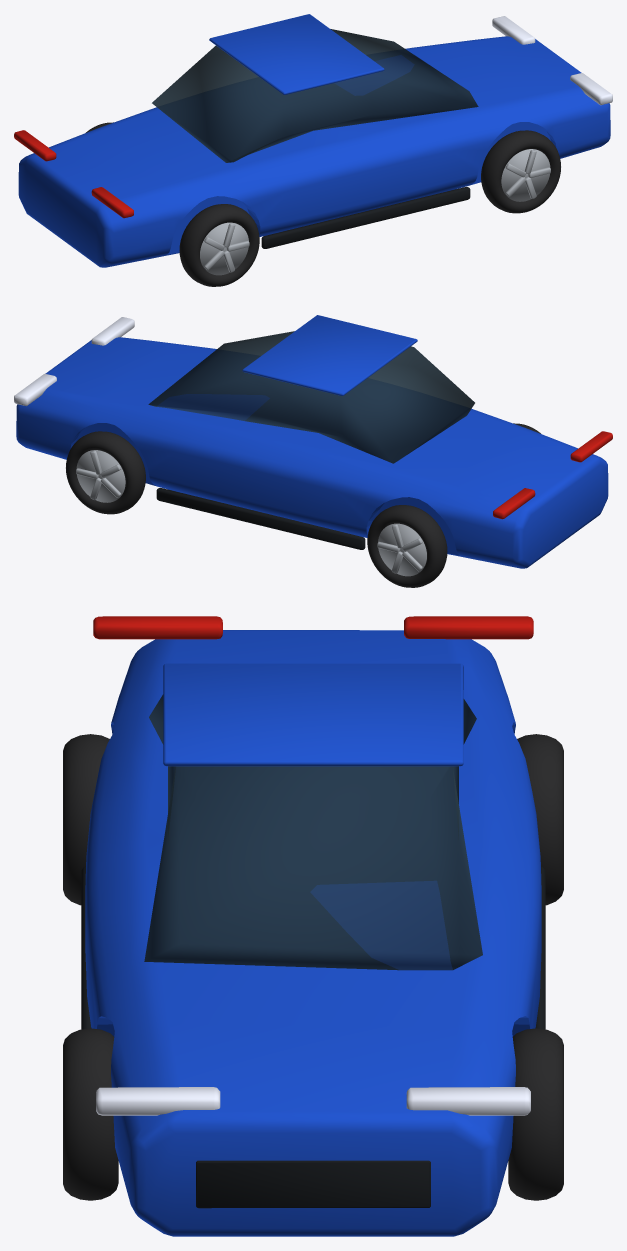
Rendered from vehicle-lod1.glb.
The picture shows the model from 3 angles, top to bottom: view 1: azimuth 30°, elevation 25°; view 2: azimuth 150°, elevation 25°; view 3: azimuth 270°, elevation 25°; orthographic projection. The views are drawn at different scales.
Visible parts, largest first — view 1: chassis_LOD1, cabin_glass_LOD1, roof_LOD1, wheel_front_left_LOD1, wheel_rear_left_LOD1, side_sill_-1_LOD1, wheel_front_left_rim_LOD1, wheel_rear_left_rim_LOD1, front_lamp_-1_LOD1, front_lamp_1_LOD1, rear_lamp_-1_LOD1, rear_lamp_1_LOD1; view 2: chassis_LOD1, cabin_glass_LOD1, roof_LOD1, wheel_front_right_LOD1, wheel_rear_right_LOD1, side_sill_1_LOD1, wheel_rear_right_rim_LOD1, wheel_front_right_rim_LOD1, front_lamp_1_LOD1, front_lamp_-1_LOD1, rear_lamp_-1_LOD1, rear_lamp_1_LOD1; view 3: chassis_LOD1, cabin_glass_LOD1, roof_LOD1, front_grille_LOD1, wheel_front_left_LOD1, wheel_front_right_LOD1, wheel_rear_left_LOD1, wheel_rear_right_LOD1, front_lamp_1_LOD1, front_lamp_-1_LOD1, rear_lamp_-1_LOD1, rear_lamp_1_LOD1 (+2 smaller).
Boxes of the visible parts, x1,y1,x2,y2 form: chassis_LOD1: (18, 36, 610, 267); cabin_glass_LOD1: (152, 29, 478, 162); roof_LOD1: (209, 14, 384, 94); wheel_front_left_LOD1: (481, 130, 560, 213); wheel_rear_left_LOD1: (179, 204, 259, 286); side_sill_-1_LOD1: (261, 187, 470, 248); wheel_front_left_rim_LOD1: (501, 149, 550, 201); wheel_rear_left_rim_LOD1: (200, 222, 248, 275); front_lamp_-1_LOD1: (570, 73, 612, 105); front_lamp_1_LOD1: (492, 16, 535, 44); rear_lamp_-1_LOD1: (91, 187, 133, 218); rear_lamp_1_LOD1: (14, 130, 56, 161); chassis_LOD1: (16, 337, 608, 568); cabin_glass_LOD1: (148, 331, 474, 463); roof_LOD1: (242, 315, 417, 395); wheel_front_right_LOD1: (66, 431, 145, 514); wheel_rear_right_LOD1: (367, 505, 447, 587); side_sill_1_LOD1: (156, 488, 365, 549); wheel_rear_right_rim_LOD1: (378, 523, 426, 576); wheel_front_right_rim_LOD1: (76, 450, 125, 502); front_lamp_1_LOD1: (14, 374, 56, 405); front_lamp_-1_LOD1: (91, 317, 134, 345); rear_lamp_-1_LOD1: (570, 431, 612, 462); rear_lamp_1_LOD1: (493, 488, 535, 519); chassis_LOD1: (85, 630, 541, 1236); cabin_glass_LOD1: (144, 694, 482, 970); roof_LOD1: (163, 663, 463, 766); front_grille_LOD1: (196, 1160, 430, 1208); wheel_front_left_LOD1: (63, 1028, 118, 1200); wheel_front_right_LOD1: (508, 1028, 563, 1200); wheel_rear_left_LOD1: (63, 734, 109, 905); wheel_rear_right_LOD1: (517, 734, 563, 905); front_lamp_1_LOD1: (406, 1087, 530, 1115); front_lamp_-1_LOD1: (96, 1087, 220, 1115); rear_lamp_-1_LOD1: (93, 616, 222, 639); rear_lamp_1_LOD1: (404, 616, 533, 639).
Bounding box in the file's own units: 4.21 × 1.25 × 1.8.
